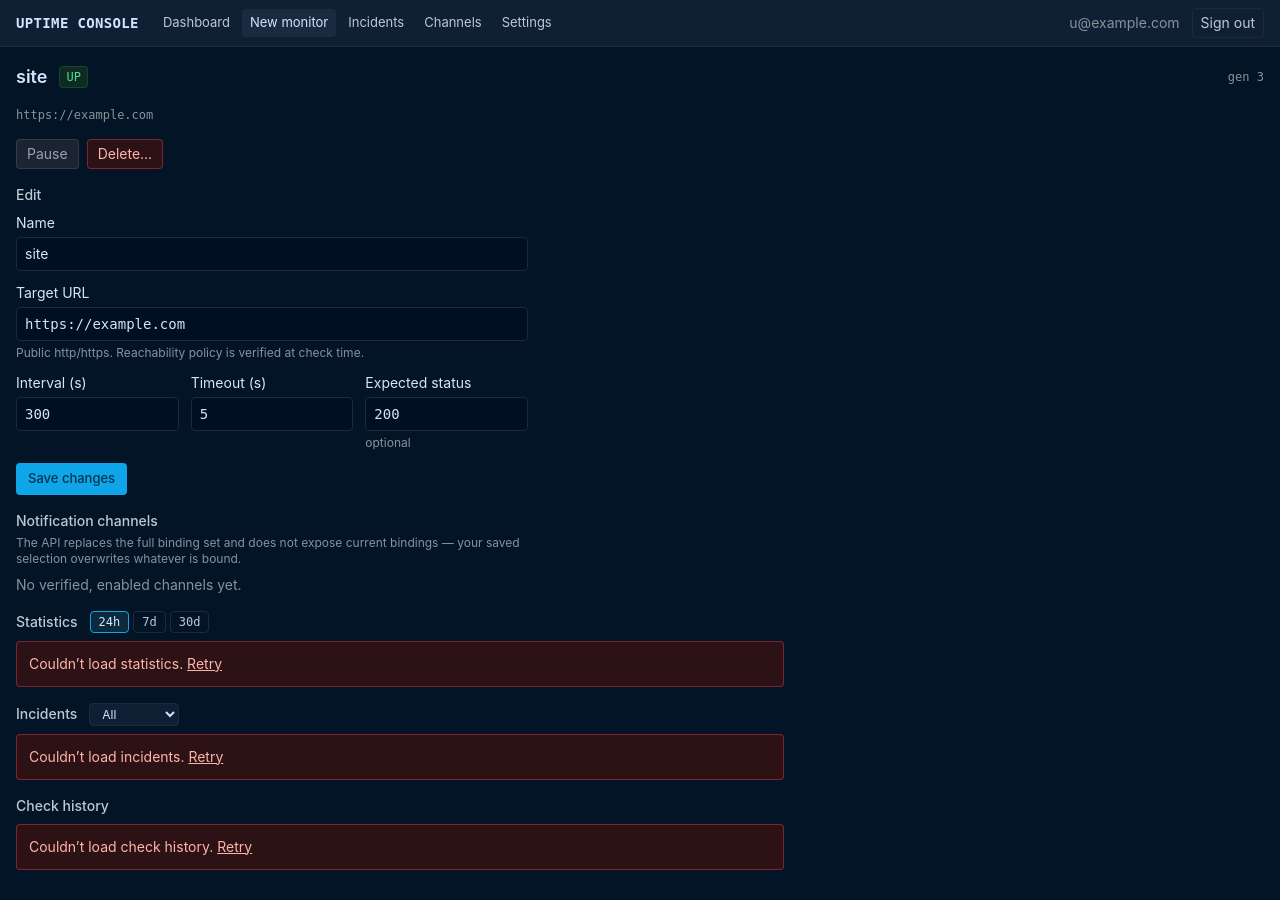
monitor forms › generation conflict shows reload banner, never blind overwrite
Expected: the text "gen 3" is shown, [1228,69,1264,85]
Click the button "Save changes" at (72, 479), box [16,463,127,494]
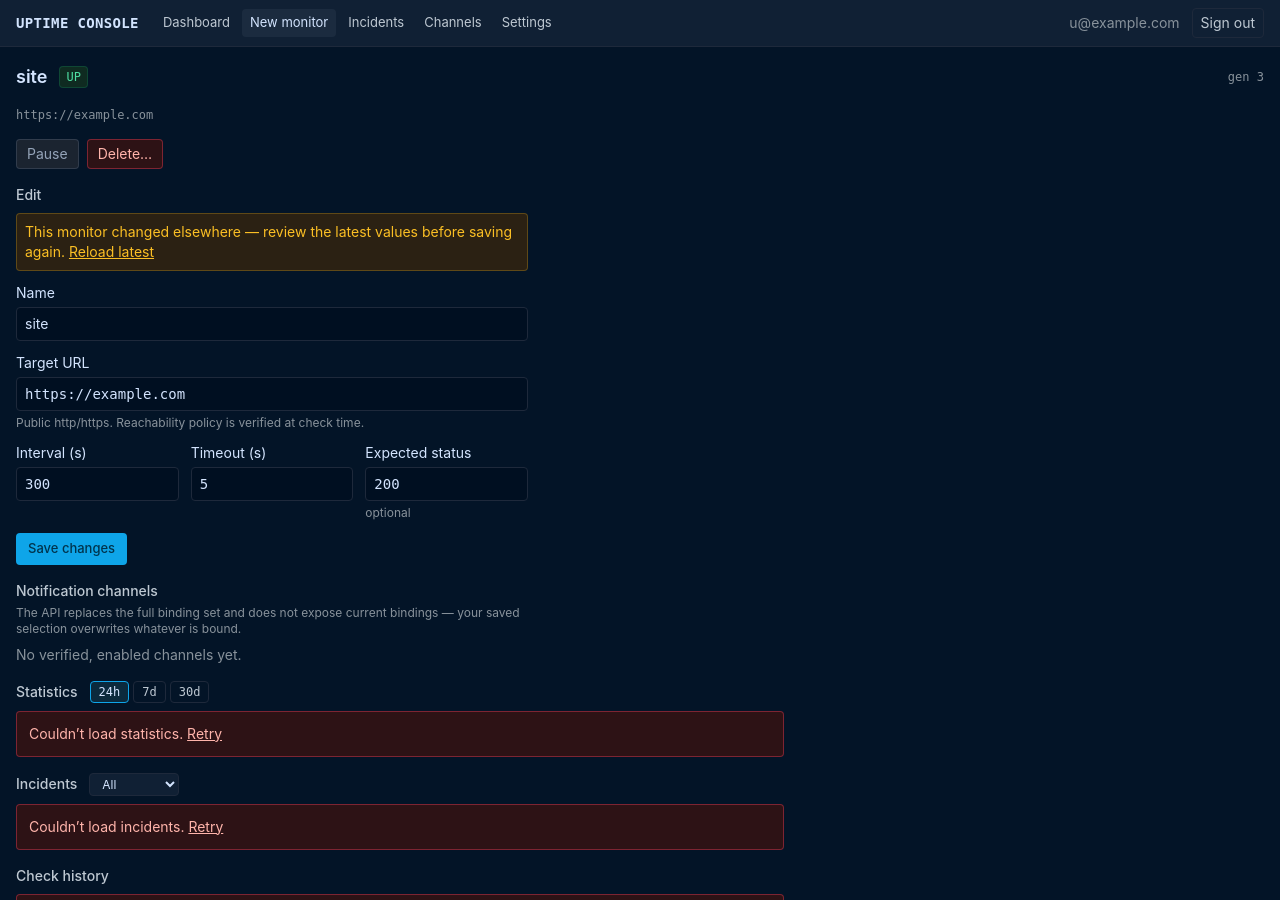
Expected: the text "changed elsewhere" is shown, [25,223,512,260]
